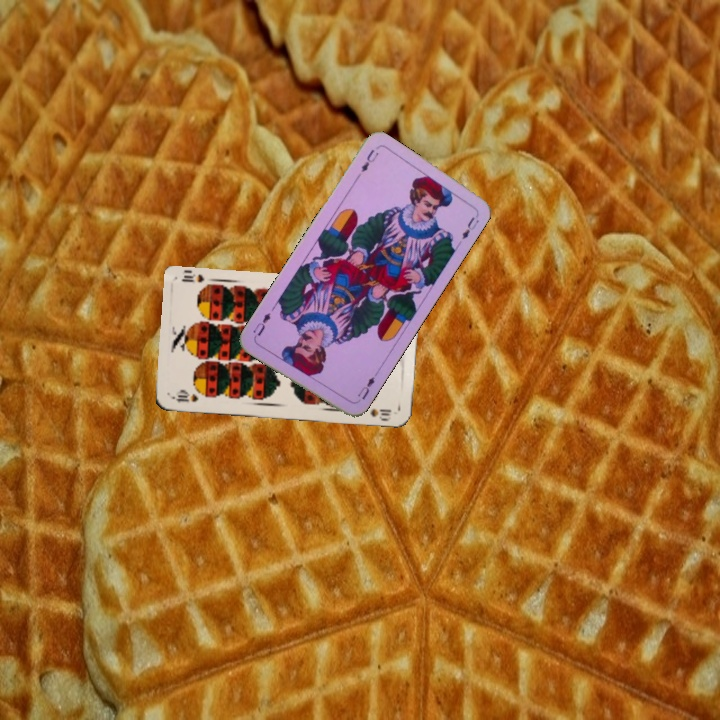EU: (353, 372, 377, 402), (357, 145, 381, 175)
S10: (168, 389, 201, 405)
